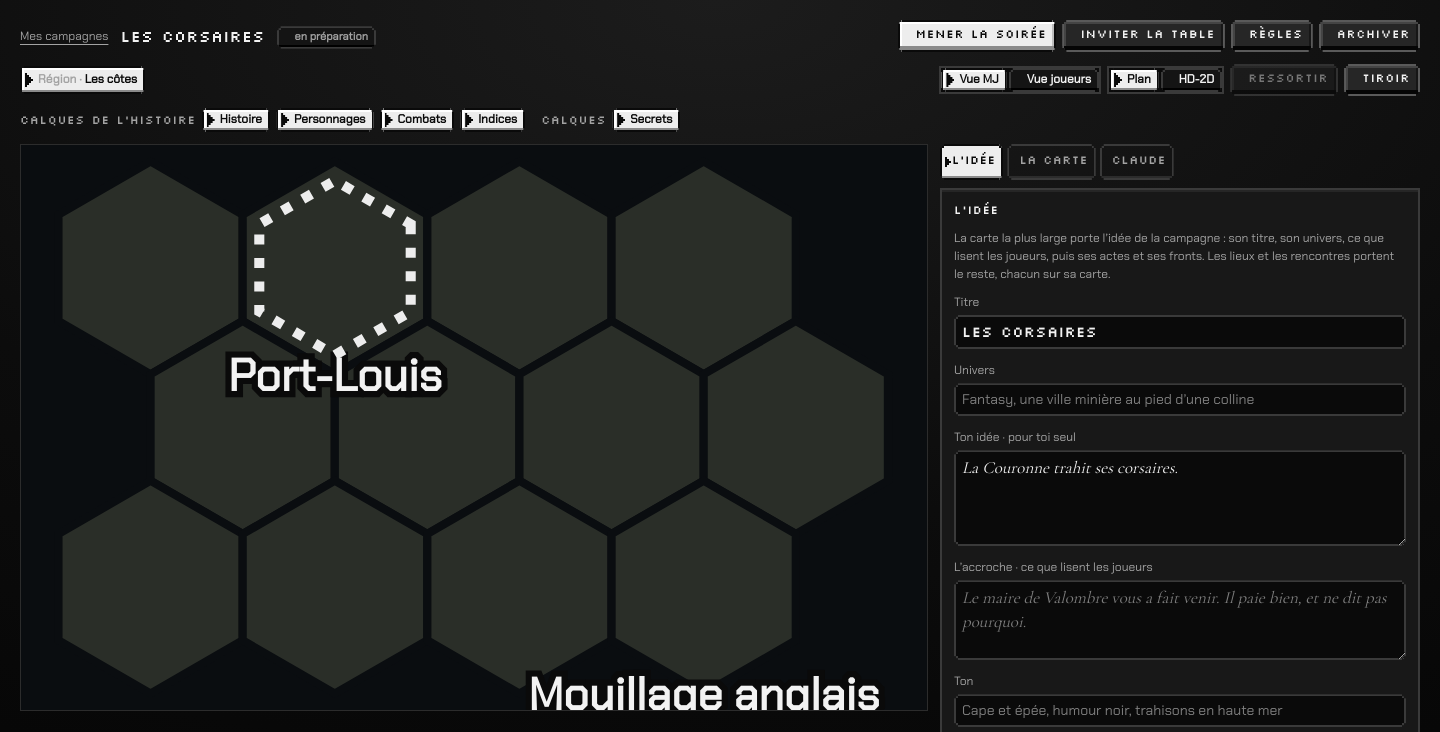
it: AtlasPage › warns of two linked scenes no path joins, naming the scene
The image size is (1440, 732).
Step 1. Click the tab "La carte" → {"x": 1052, "y": 162}, box [1007,144,1096,180]
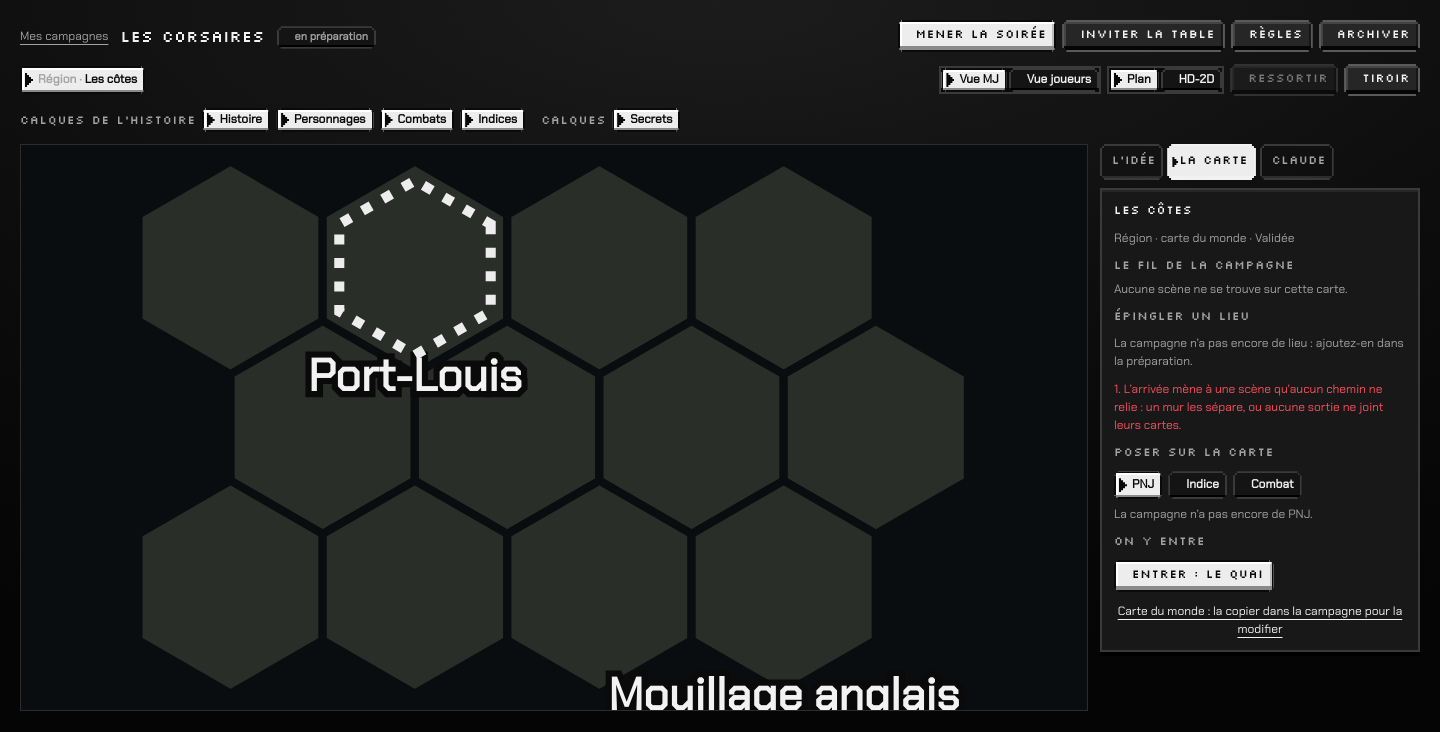
expect the list named "Épingles et poses à revoir" shows "1. L’arrivée mène à une scène qu’aucun chemin ne relie": met, box [1114,381,1384,433]
